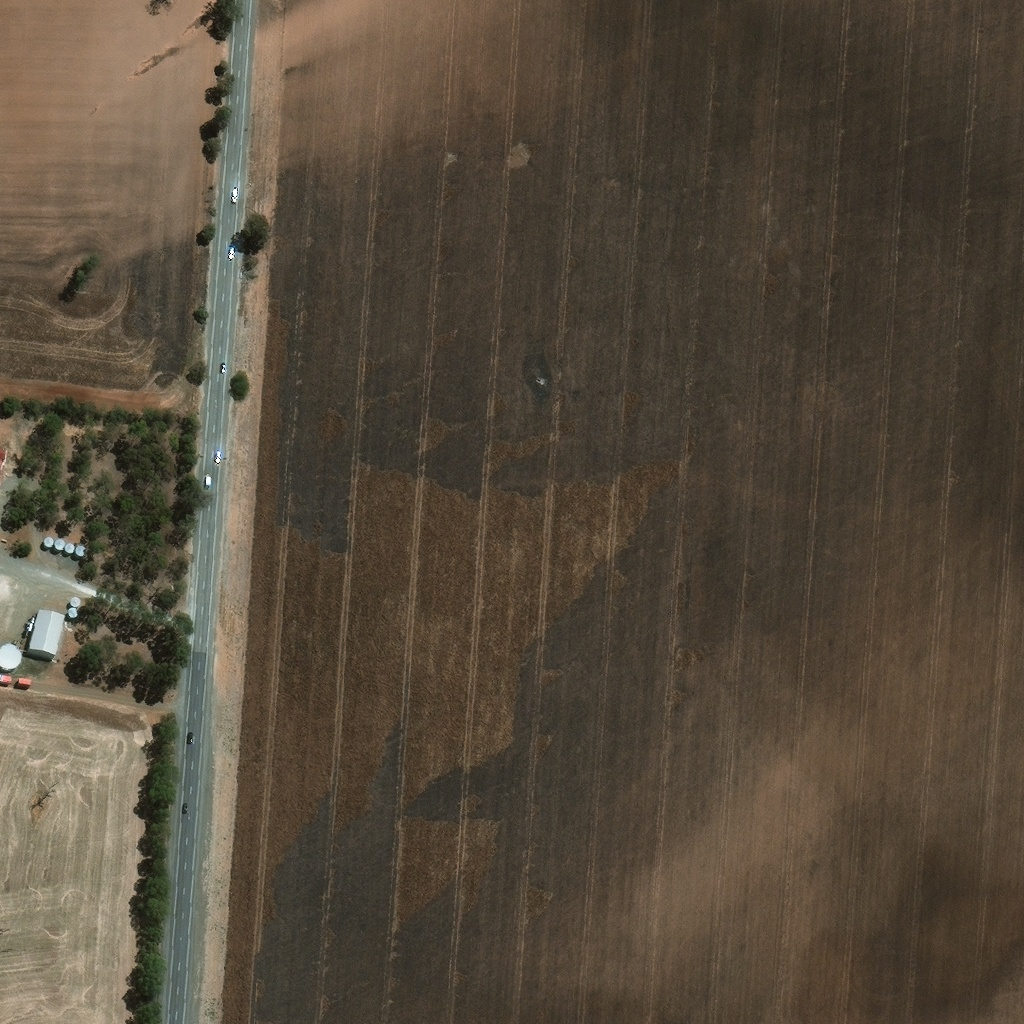0 no-damage: (28, 609, 66, 657), (52, 537, 89, 558), (0, 641, 23, 669), (67, 597, 82, 619), (28, 617, 36, 633)
